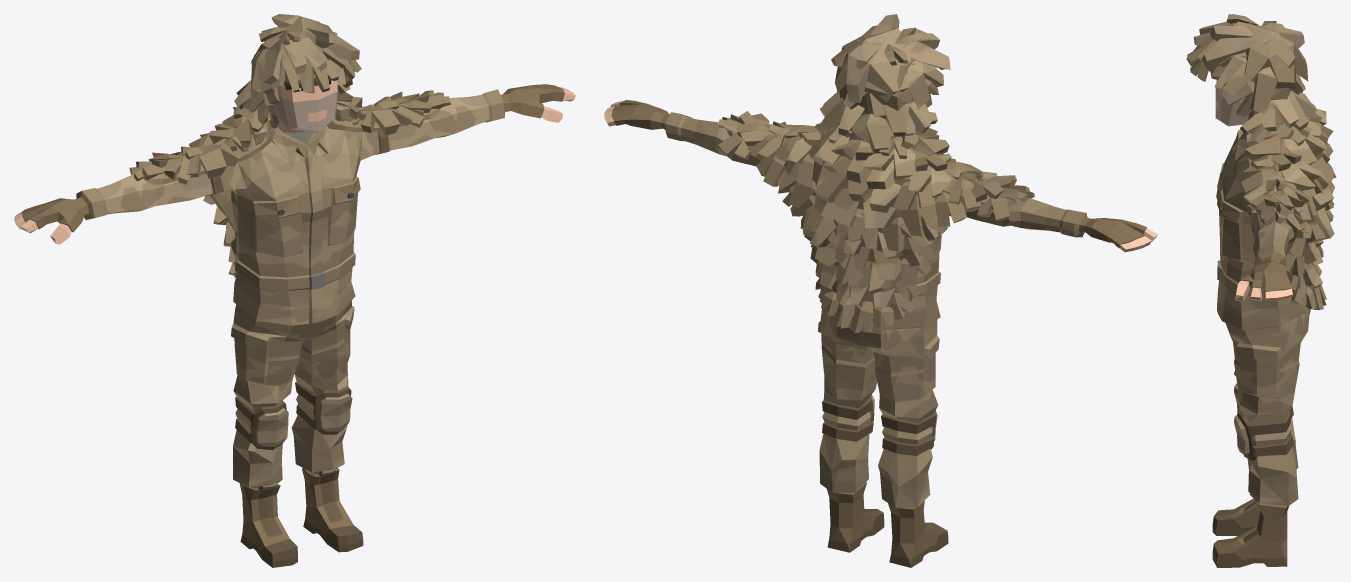
Rendered from SM_Chr_Ghillie_Male_01.fbx.
3 renders of one model, left to right at view 1: azimuth 30°, elevation 25°; view 2: azimuth 150°, elevation 25°; view 3: azimuth 270°, elevation 25°, orthographic.
Parts seen in each view (by area): view 1: SM_Chr_Ghillie_Male_01; view 2: SM_Chr_Ghillie_Male_01; view 3: SM_Chr_Ghillie_Male_01.
Boxes of the visible parts, x1,y1,x2,y2 form: SM_Chr_Ghillie_Male_01: [14, 14, 575, 567]; SM_Chr_Ghillie_Male_01: [604, 14, 1157, 567]; SM_Chr_Ghillie_Male_01: [1186, 14, 1336, 567].
Size of the model in its own units: 204 by 185 by 48.01.
